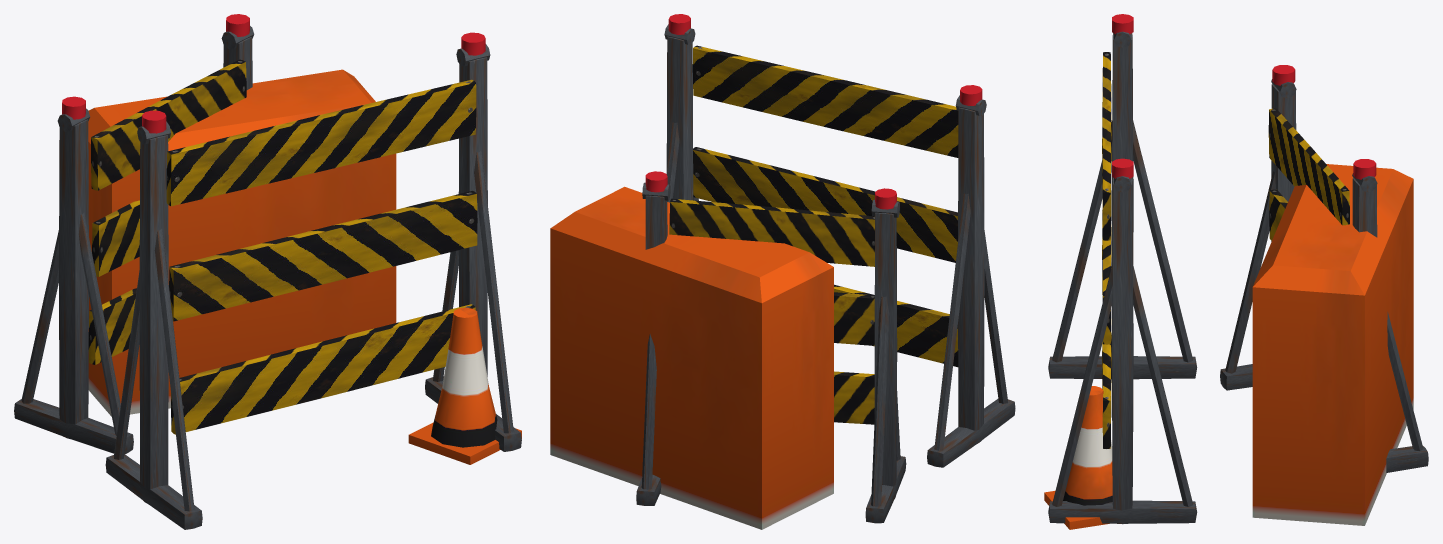
File: prop_soft_barrier.glb
The picture shows the model from 3 angles, left to right: view 1: azimuth 30°, elevation 25°; view 2: azimuth 150°, elevation 25°; view 3: azimuth 270°, elevation 25°; orthographic projection. The views are drawn at different scales.
Visible parts, largest first — view 1: prop_soft_barrier_body; view 2: prop_soft_barrier_body; view 3: prop_soft_barrier_body.
Part boxes in pixels (x1,y1,x2,y2): prop_soft_barrier_body: (14, 14, 521, 529); prop_soft_barrier_body: (550, 14, 1015, 529); prop_soft_barrier_body: (1044, 14, 1428, 529).
Bounding box in the file's own units: 0.8837 × 0.9 × 0.877.
1 material, 1 textured.
